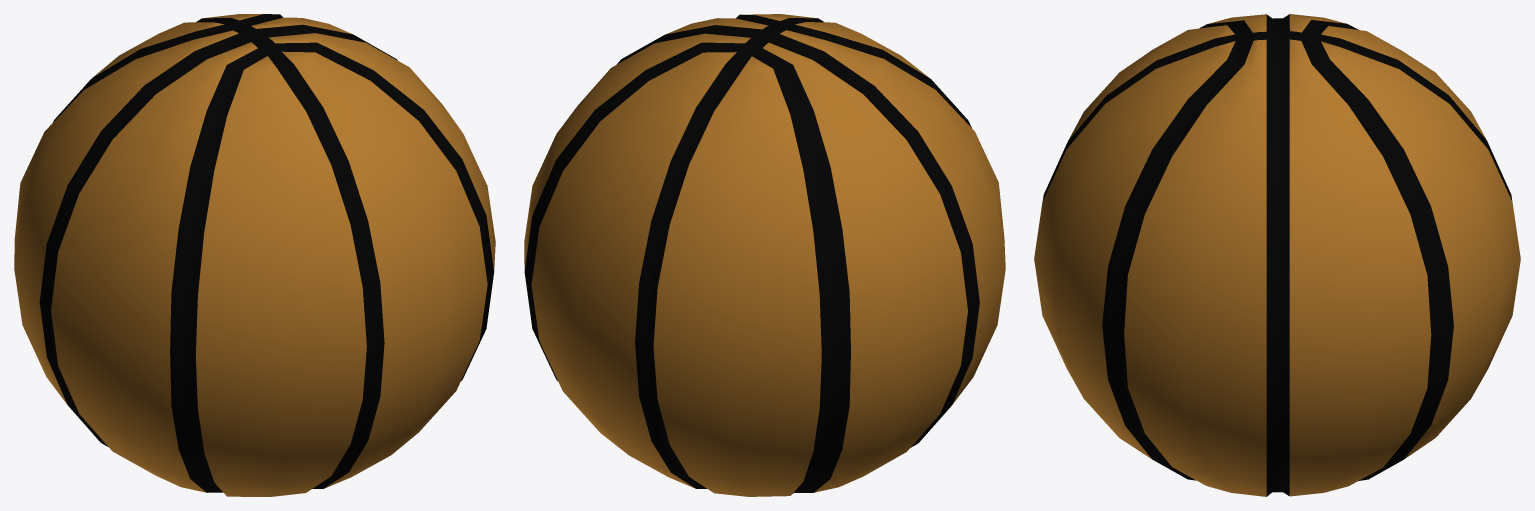
File: BalonCesto.fbx
3 views of the same model, side by side, from view 1: azimuth 30°, elevation 25°; view 2: azimuth 150°, elevation 25°; view 3: azimuth 270°, elevation 25° (orthographic).
Visible parts, largest first — view 1: BalonCesto; view 2: BalonCesto; view 3: BalonCesto.
Part boxes in pixels (x1,y1,x2,y2): BalonCesto: (14,14,495,496); BalonCesto: (524,14,1005,496); BalonCesto: (1034,14,1520,496).
Size of the model in its own units: 23.47 by 23.52 by 23.63.
